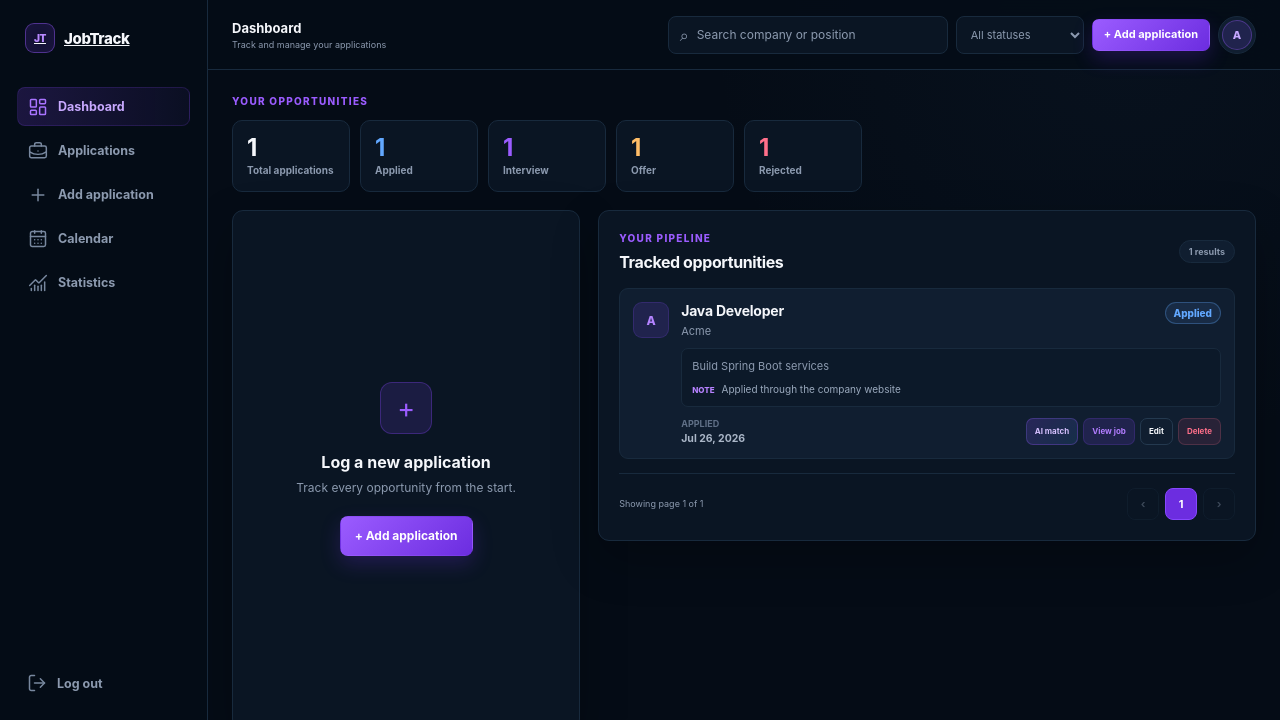
it: ApplicationsPage › analyzes an application and displays the skill gap
Expected: the heading "Java Developer" is shown, [681, 302, 784, 320]
Click the button "AI match": {"x": 1052, "y": 431} [1026, 418, 1078, 445]
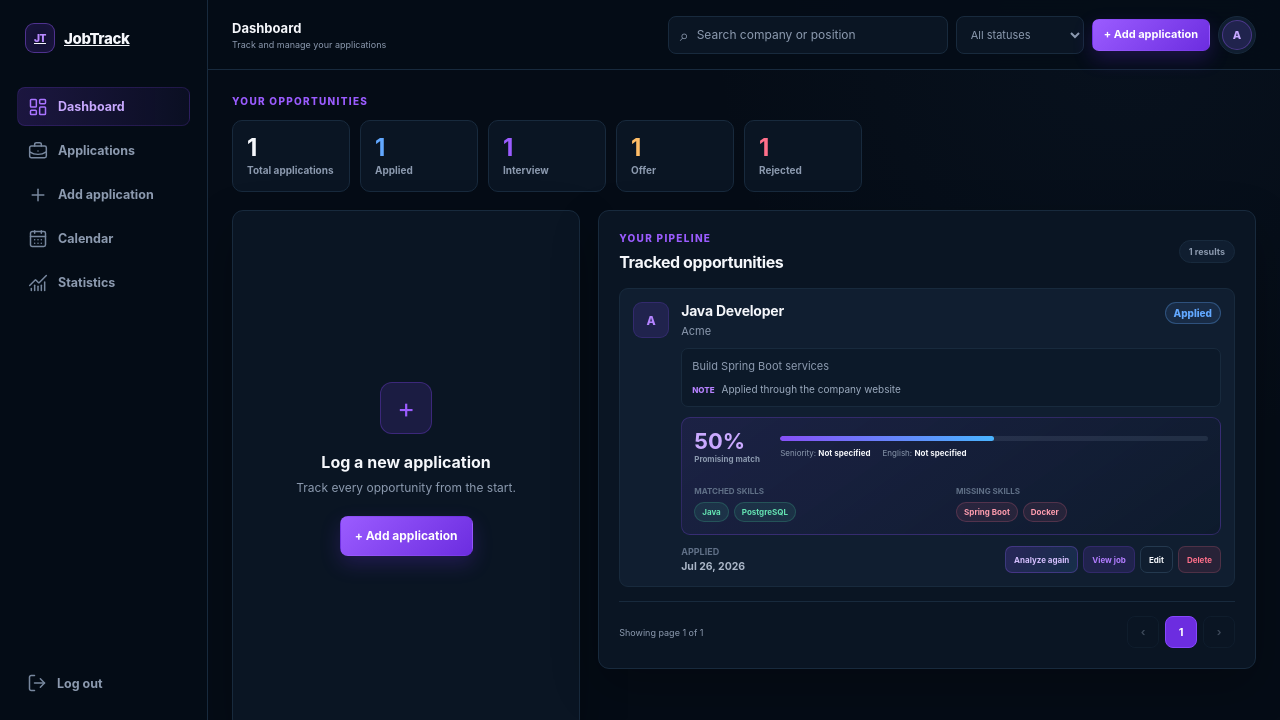
Now the text "50%" is shown, box [694, 428, 745, 454]
Now the text "Promising match" is shown, box [694, 454, 766, 464]
Now the list item "Spring Boot" is shown, box [956, 502, 1018, 522]
